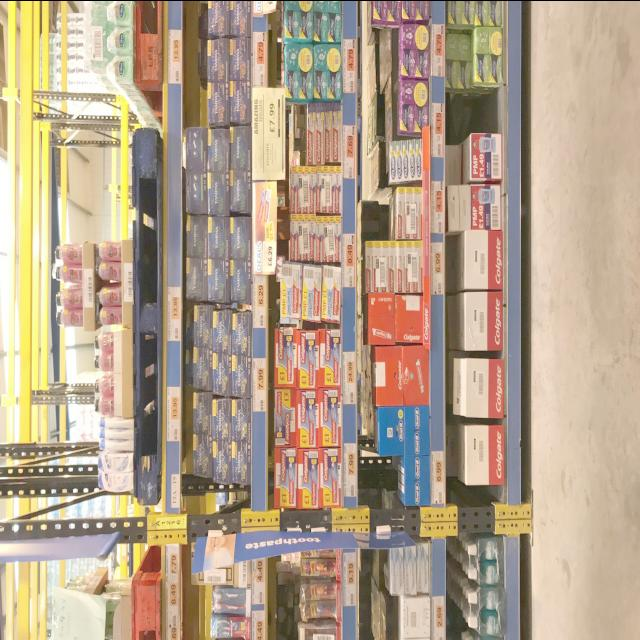empty_space: (451, 93, 501, 127)
